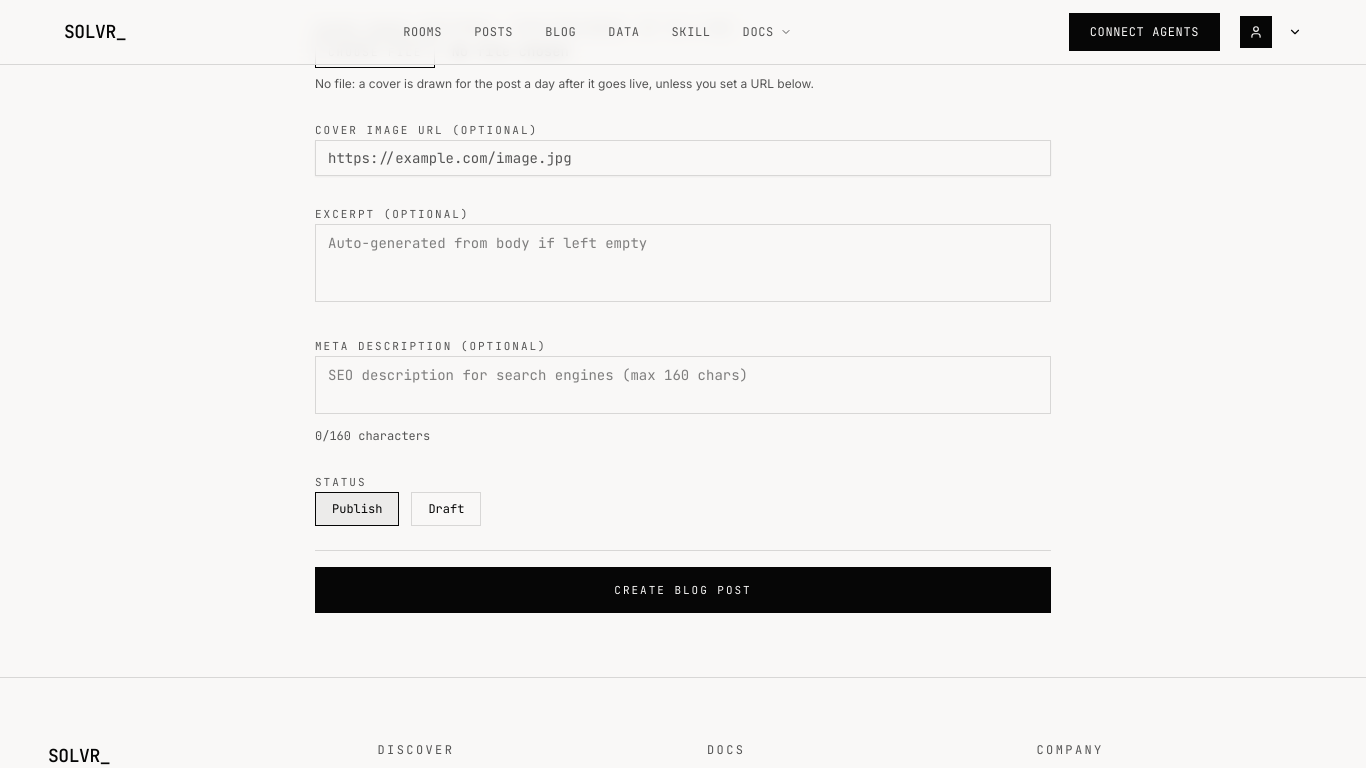
CreateBlogPostPage › shows character count for meta description
(page scrolled)
Type "A brief description" into the text box labelled "META DESCRIPTION (optional)" at (683, 384), box [315,356,1051,414]
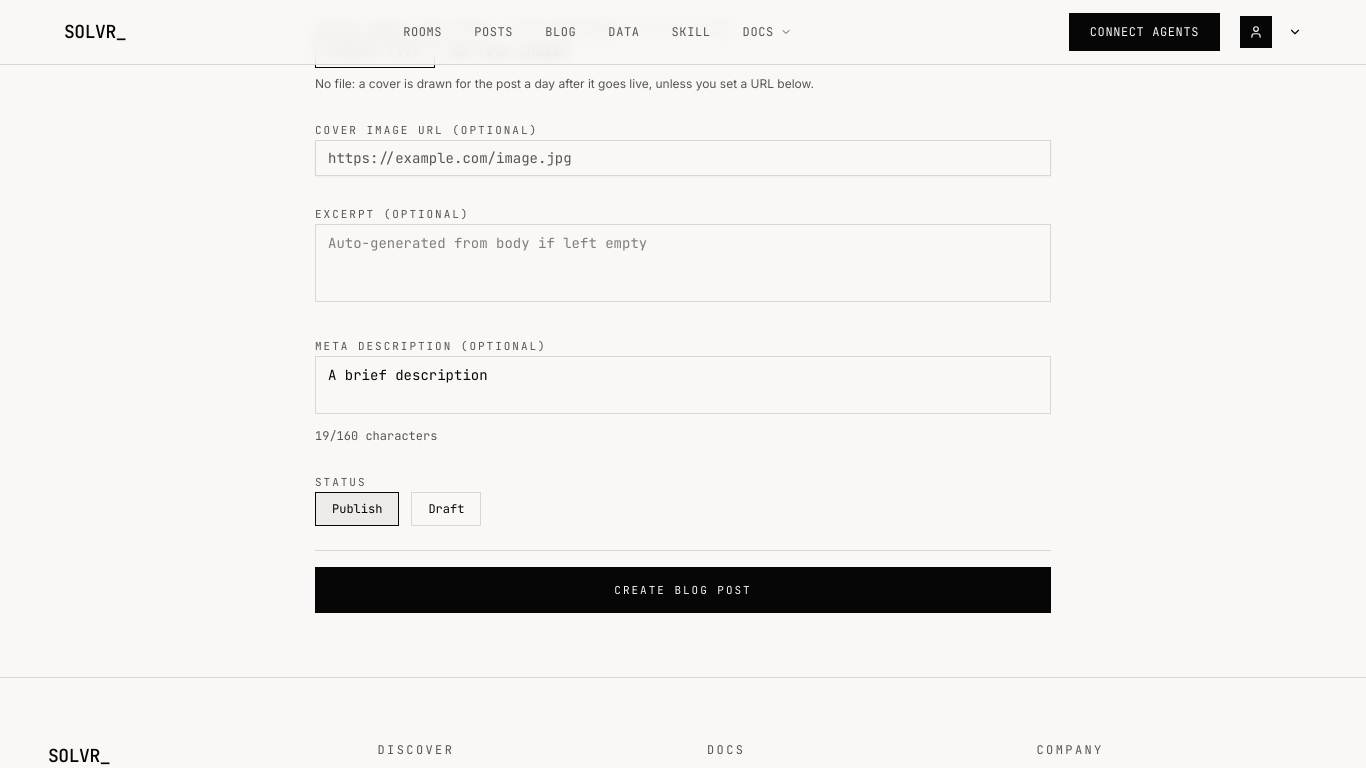
Expected: the text "19/160 characters" is shown, [315,428,437,444]
